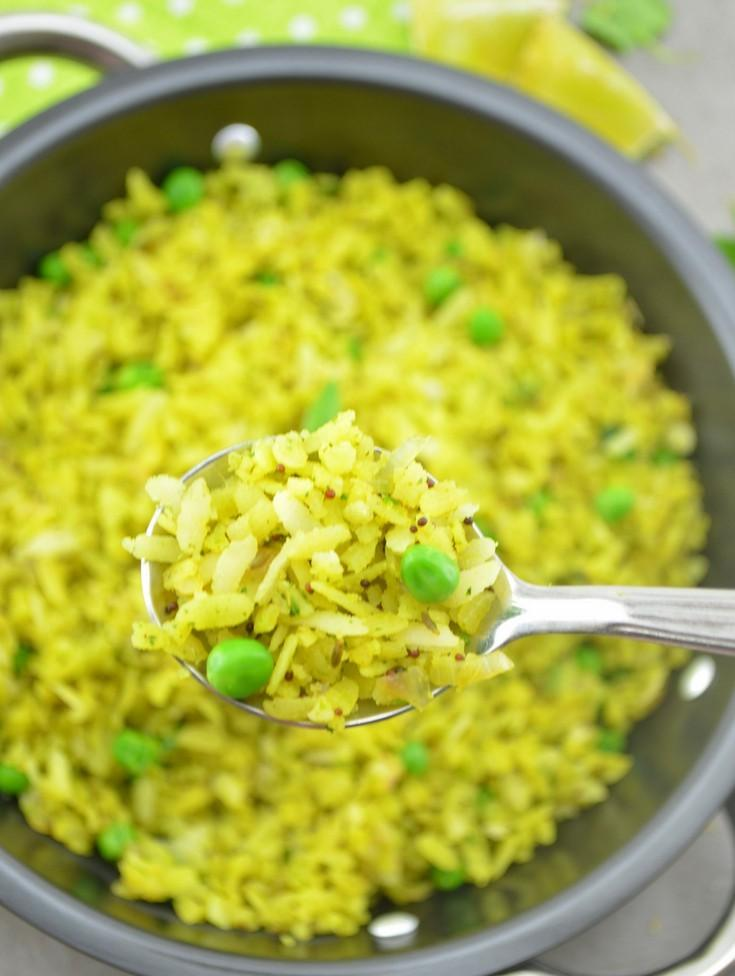Poha: (0, 152, 709, 938)
